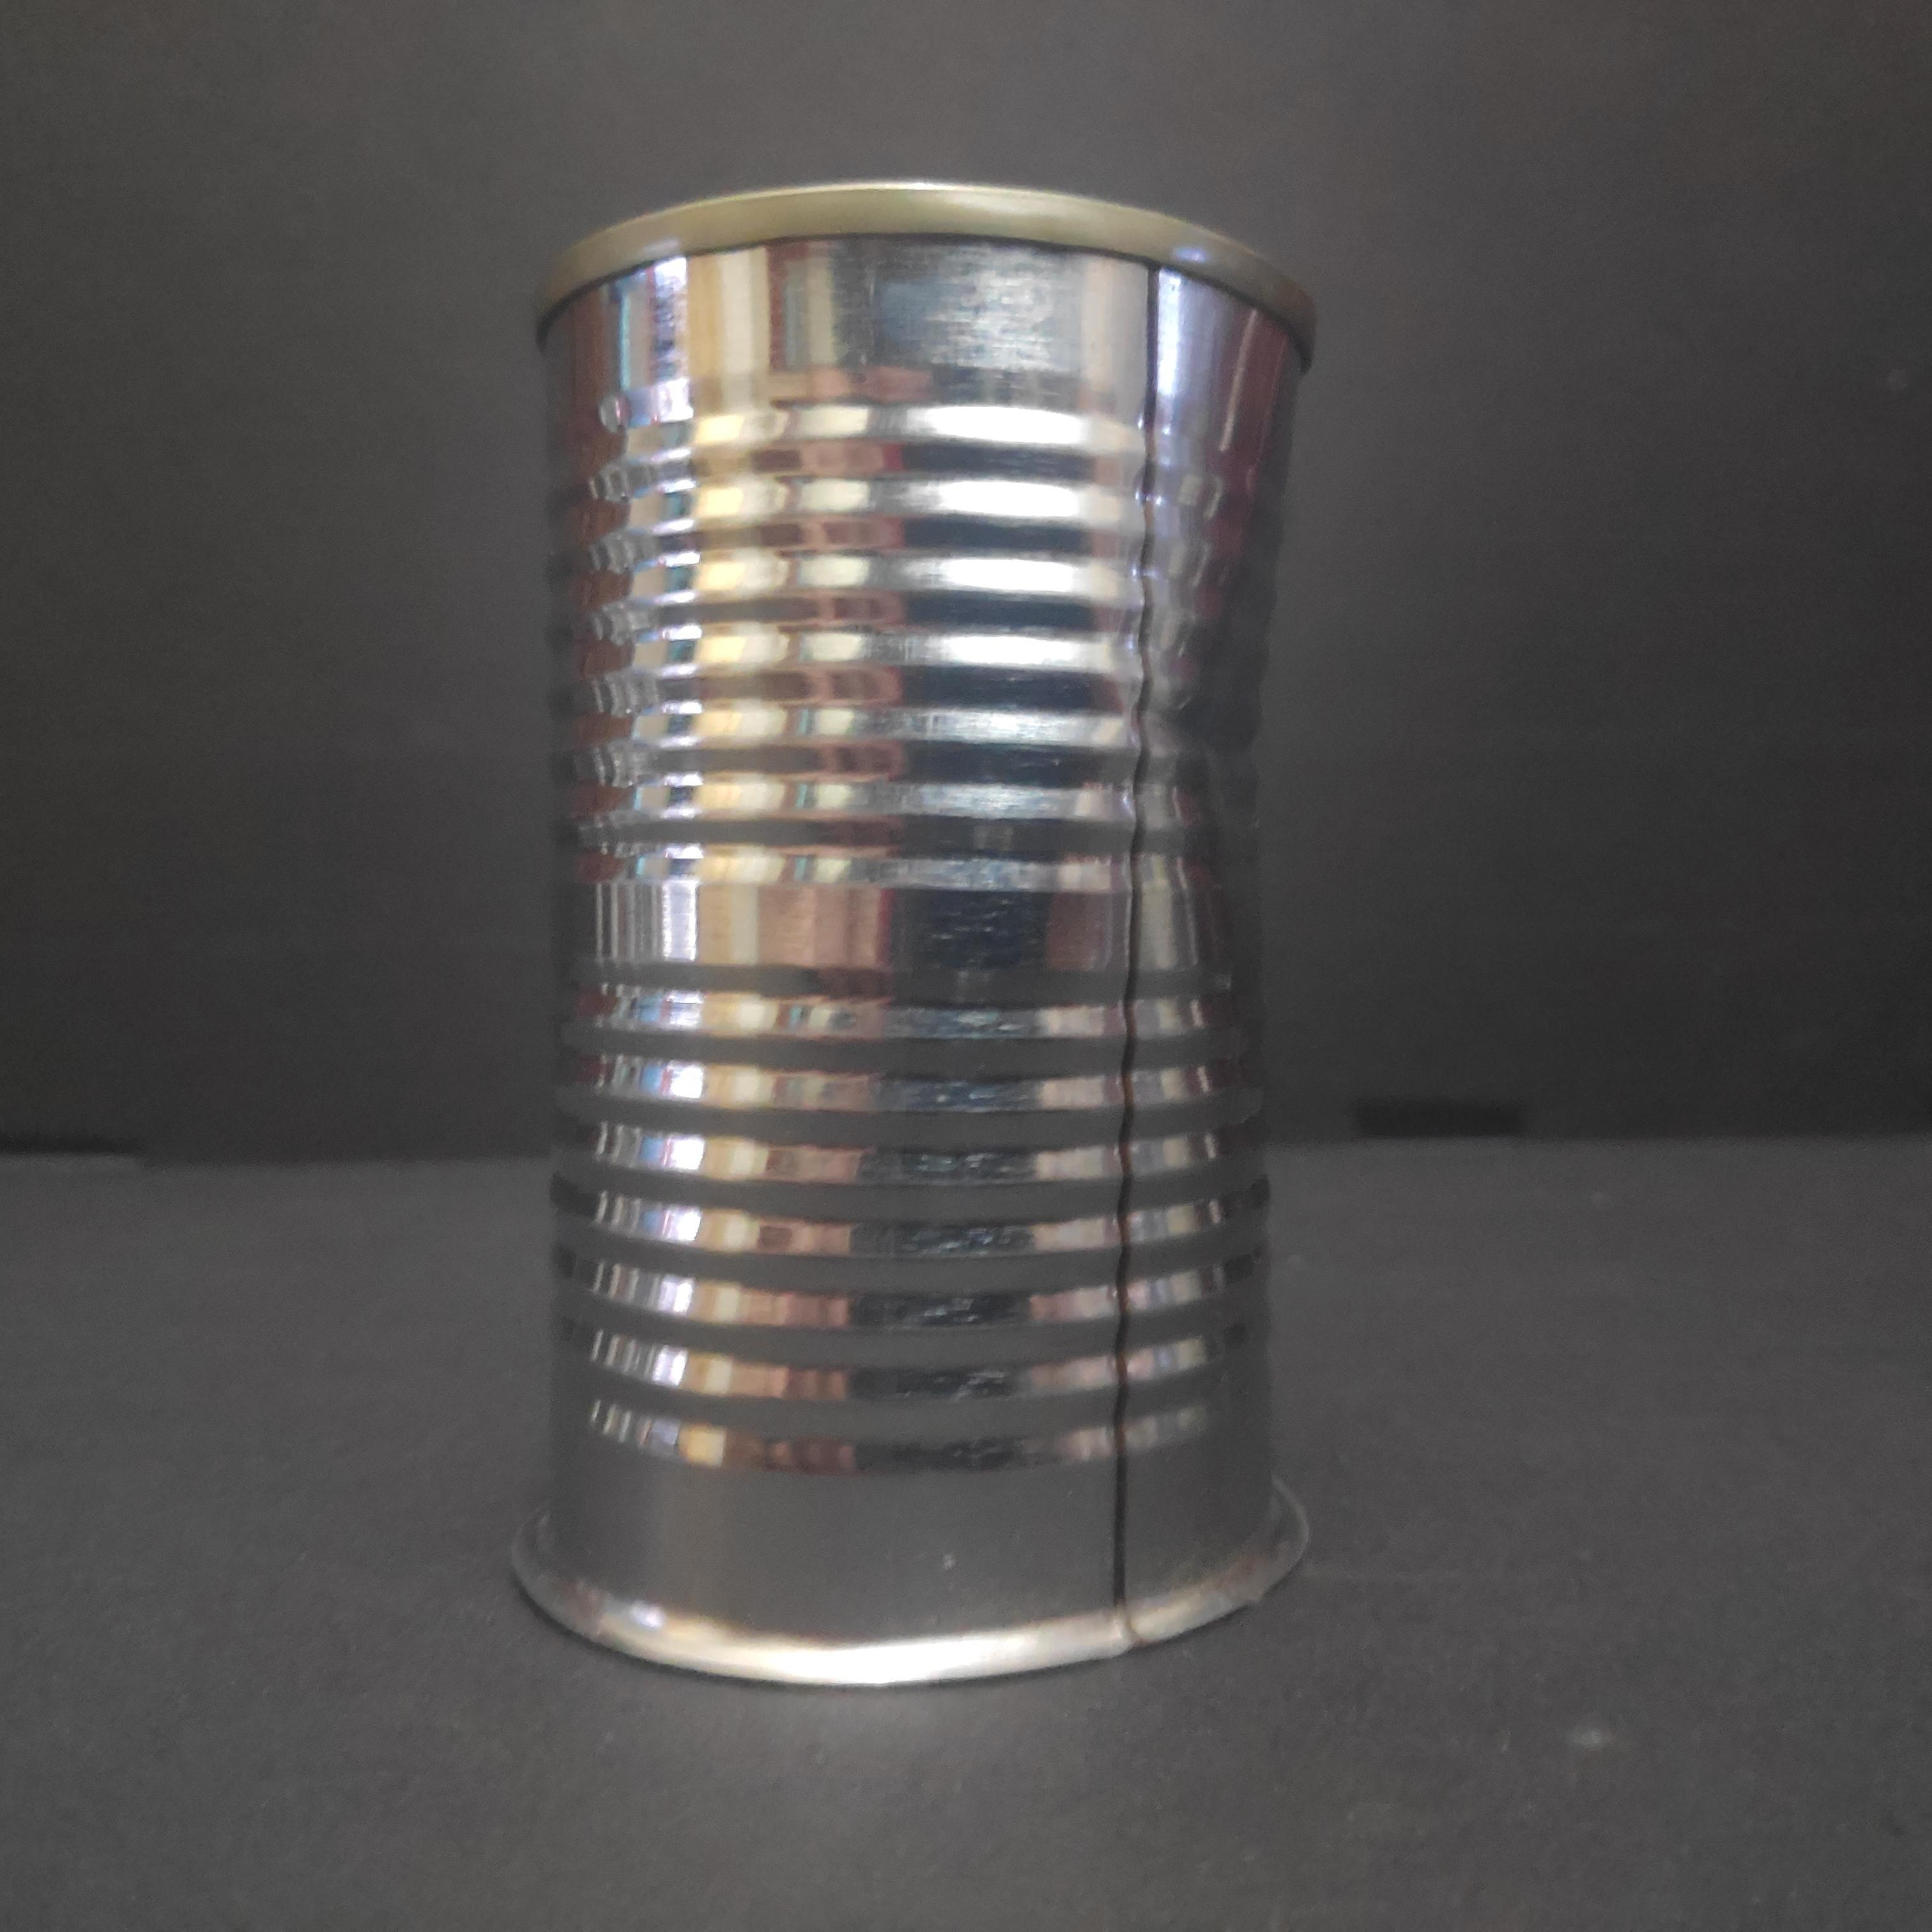Dented: (511, 147, 1341, 1690)
